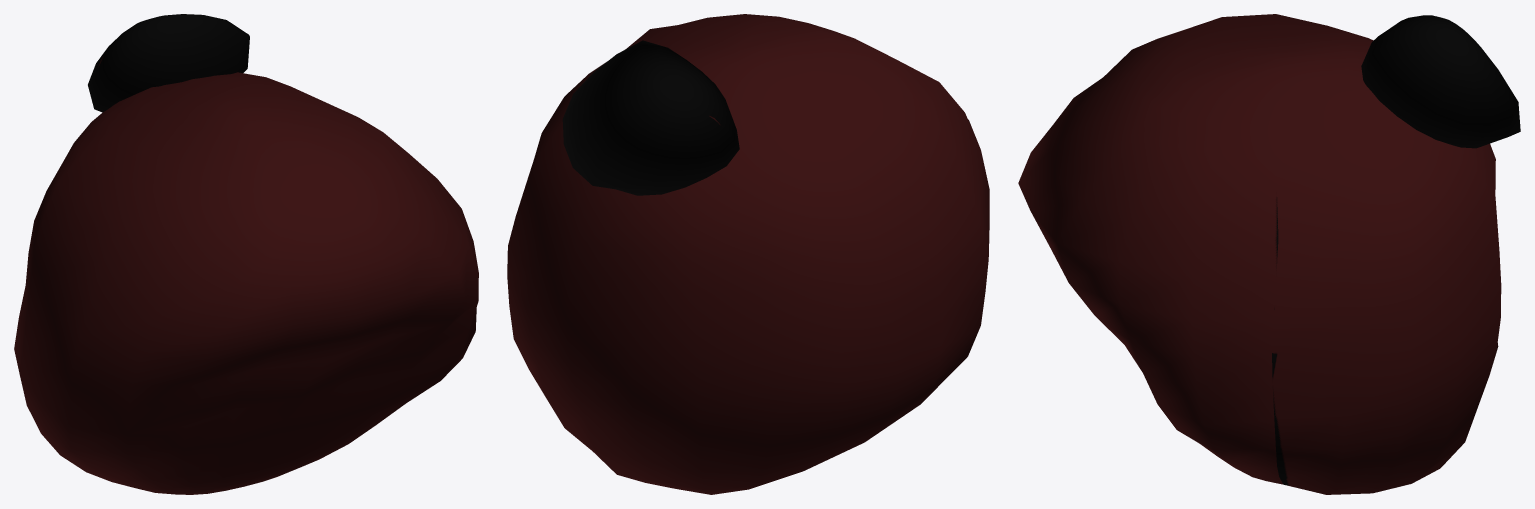
File: hair_03_3.fbx
3 views of the same model, side by side, from view 1: azimuth 30°, elevation 25°; view 2: azimuth 150°, elevation 25°; view 3: azimuth 270°, elevation 25° (orthographic). The views are drawn at different scales.
Parts seen in each view (by area): view 1: hair_02_3; view 2: hair_02_3; view 3: hair_02_3.
Part boxes in pixels (x1,y1,x2,y2): hair_02_3: (14,14,478,494); hair_02_3: (507,14,989,494); hair_02_3: (1018,14,1520,494).
Bounding box in the file's own units: 33.76 × 33.75 × 34.22.
